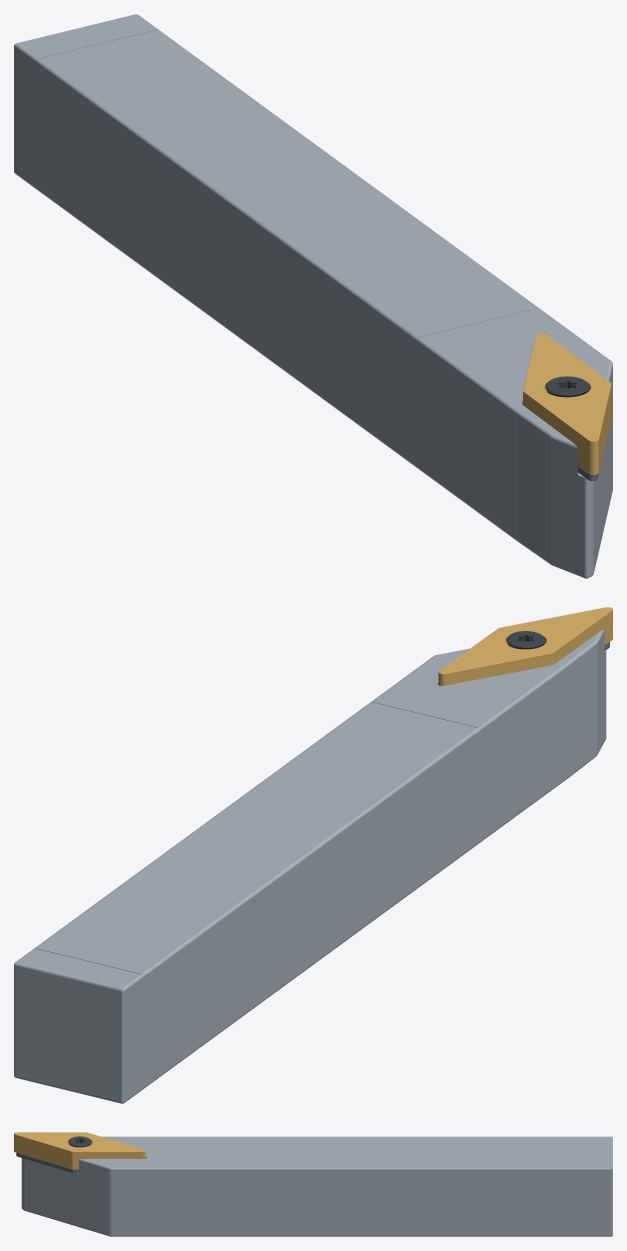
File: diamond-35-r04.glb
3 renders of one model, top to bottom at view 1: azimuth 30°, elevation 25°; view 2: azimuth 150°, elevation 25°; view 3: azimuth 270°, elevation 25°, orthographic. The views are drawn at different scales.
Visible parts, largest first — view 1: Holder_Main, Carbide_Insert_35deg, Screw_Head; view 2: Holder_Main, Carbide_Insert_35deg; view 3: Holder_Main, Carbide_Insert_35deg, Insert_Seat, Screw_Head.
Part boxes in pixels (x1,y1,x2,y2): Holder_Main: (14, 14, 612, 578); Carbide_Insert_35deg: (523, 333, 611, 474); Screw_Head: (545, 376, 588, 397); Holder_Main: (14, 630, 606, 1103); Carbide_Insert_35deg: (438, 607, 612, 685); Holder_Main: (21, 1136, 612, 1236); Carbide_Insert_35deg: (14, 1132, 145, 1169); Insert_Seat: (16, 1153, 78, 1173); Screw_Head: (68, 1136, 91, 1147).
Size of the model in its own units: 0.01 by 0.0111 by 0.0786.
